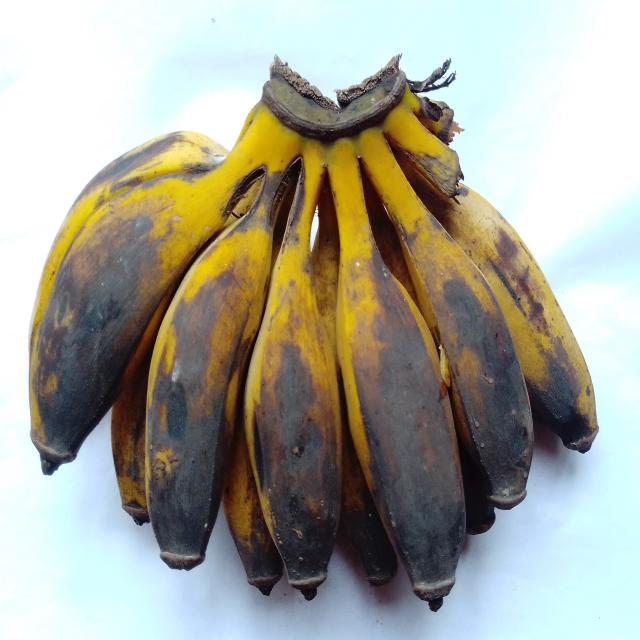banana: (30, 107, 299, 473), (358, 128, 532, 508), (329, 140, 464, 610), (399, 157, 598, 452), (146, 171, 287, 569), (245, 143, 341, 599), (30, 131, 228, 352), (339, 373, 397, 585), (222, 407, 282, 595), (341, 399, 397, 586), (362, 174, 418, 304), (362, 175, 418, 304), (111, 352, 151, 525), (459, 441, 495, 534)
